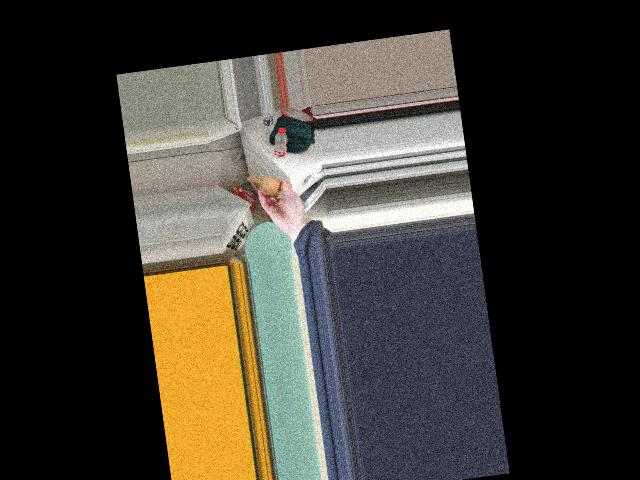sweet_potato: (258, 174, 288, 196)
